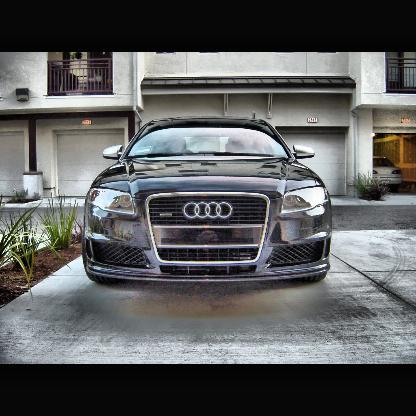Audi S4 Sedan 2007: (85, 117, 329, 290)
